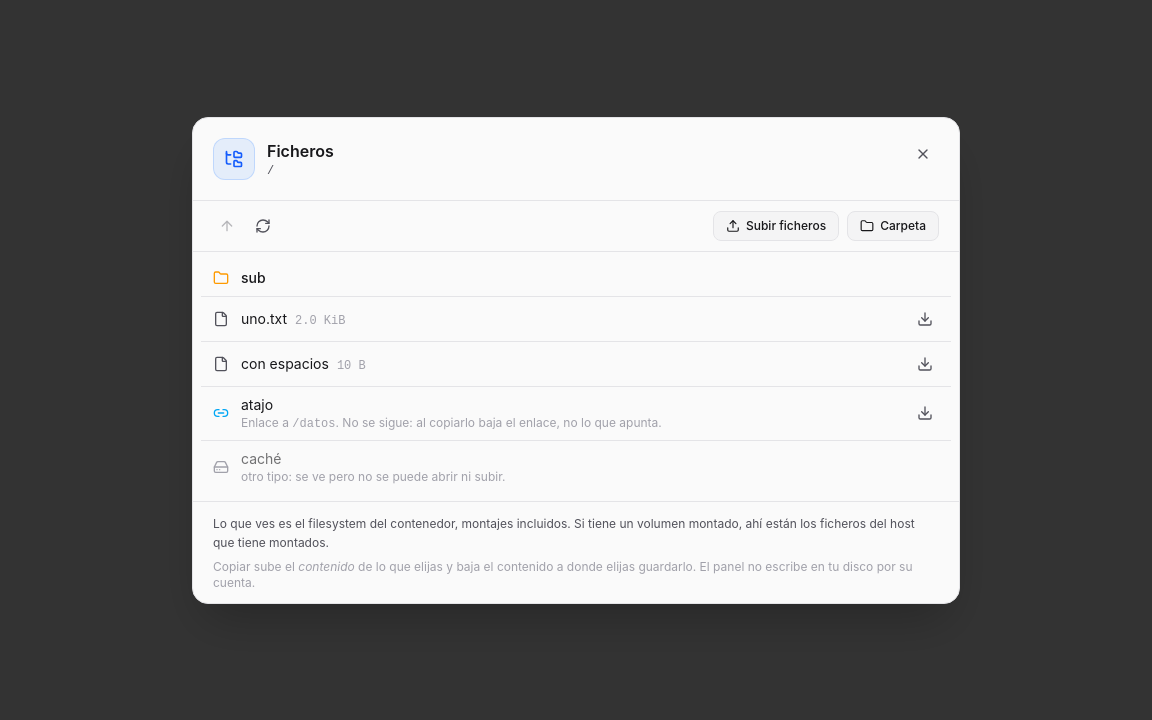
ContainerFilesModal › un error del backend se enseña y el listado no se queda a medias
Check: the button "uno.txt" is shown, box [241,308,287,328]
What coordinates should you click on to do the following:
click the button with test id "descargar-uno.txt"
I would click on:
 (925, 318)
Its box is [911,304,939,332].
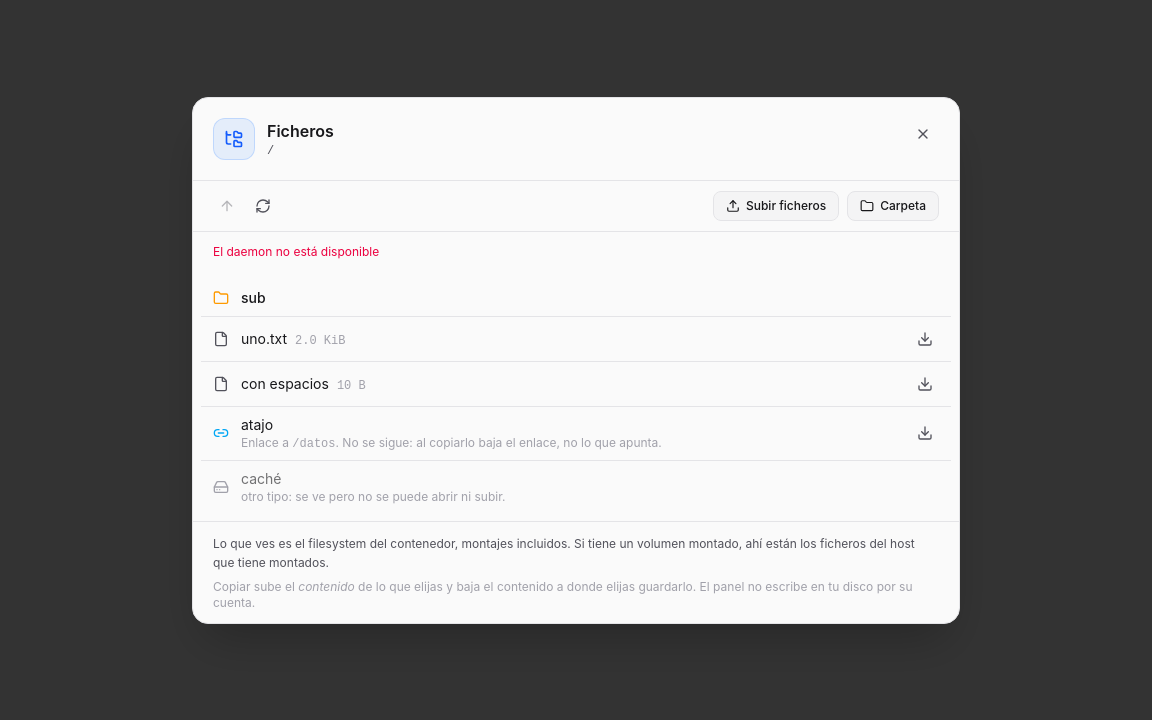
Check: the button "uno.txt" is shown, box [241,328,287,348]
Check: the text "El daemon no está disponible" is shown, box [213,244,379,258]
